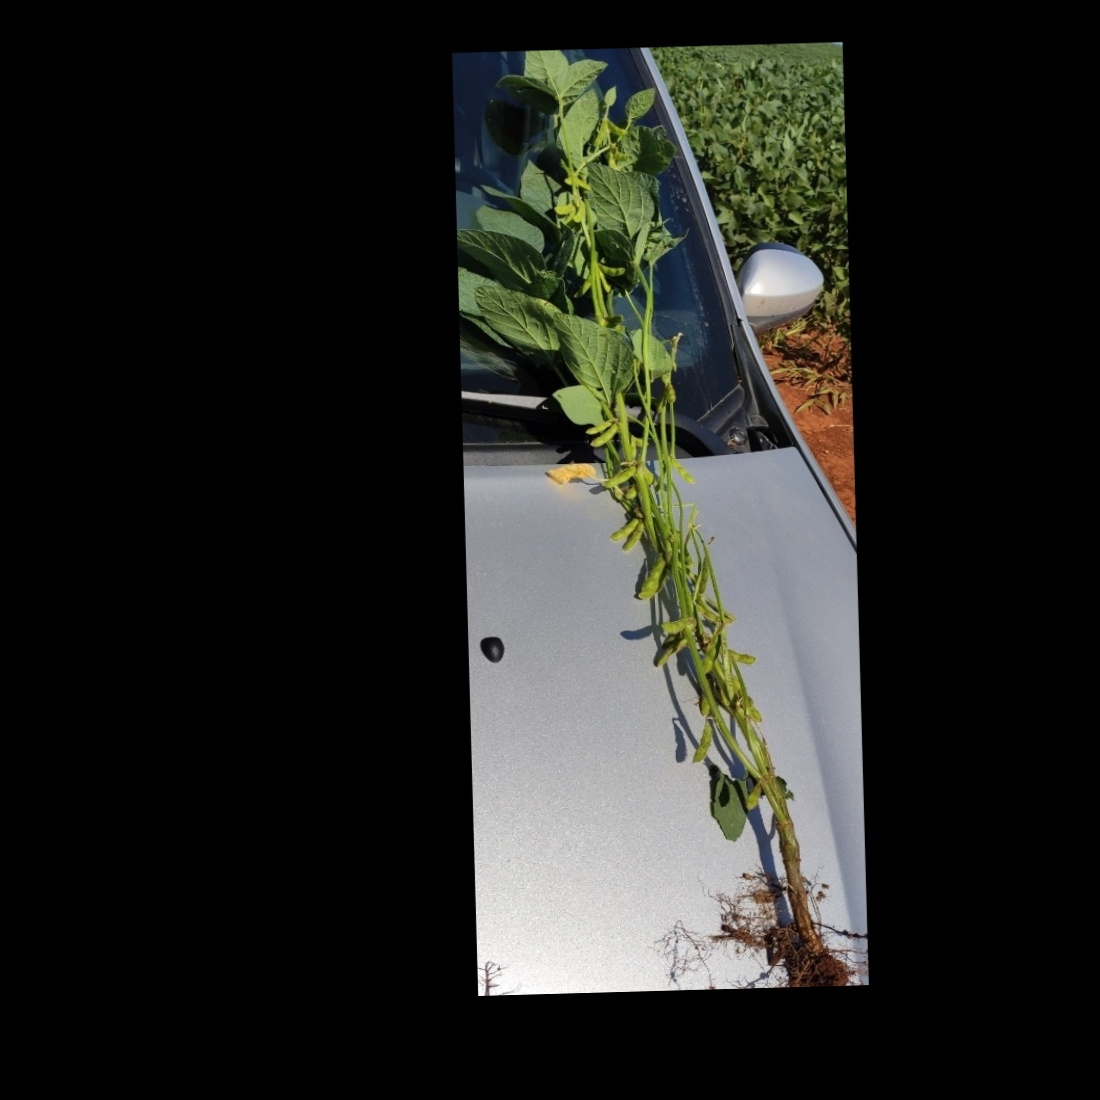pod: (663, 455, 698, 489), (691, 721, 716, 766), (588, 420, 625, 450), (607, 515, 644, 543), (620, 518, 647, 554), (600, 112, 632, 137), (582, 417, 617, 439), (602, 465, 637, 488), (592, 260, 631, 278), (590, 118, 610, 149), (728, 645, 759, 665), (569, 197, 592, 223)
soy: (474, 51, 858, 998)
